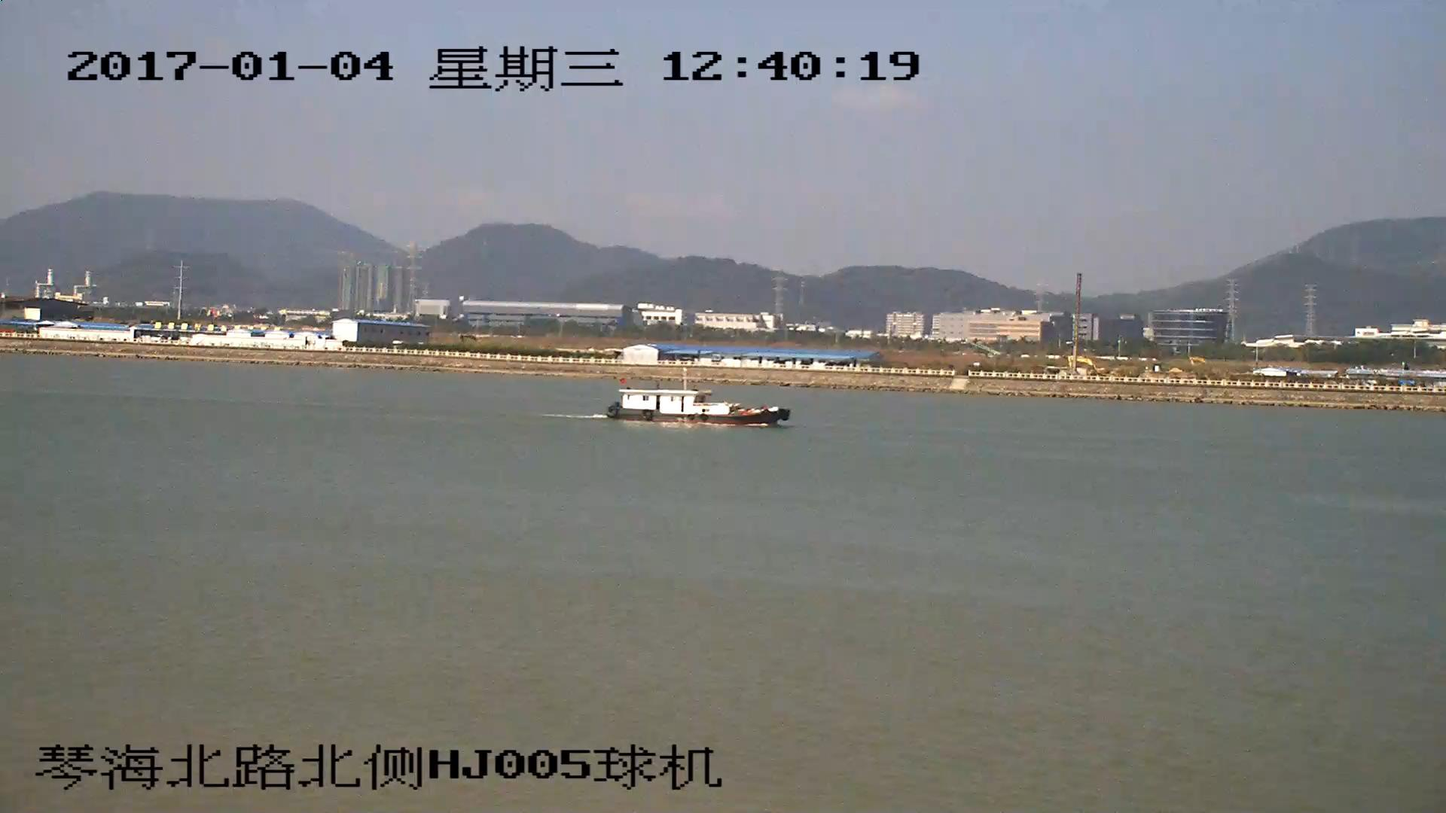fishing boat: (608, 372, 790, 427)
